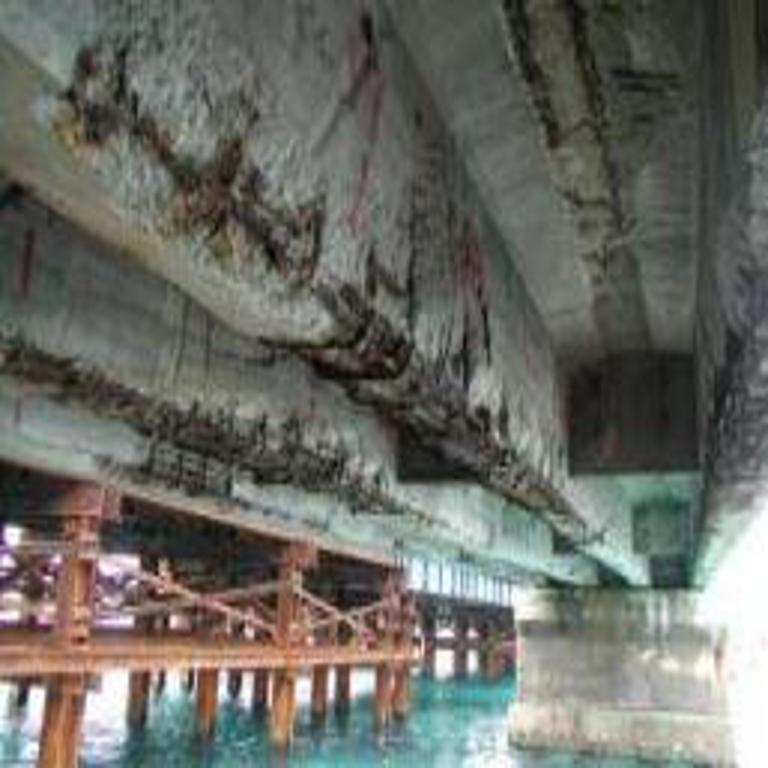crack: (319, 12, 383, 152), (13, 399, 114, 474), (234, 496, 334, 531), (559, 503, 610, 547), (209, 342, 295, 368), (399, 502, 463, 536), (358, 151, 369, 192)
damage: (59, 46, 564, 516), (0, 337, 398, 514), (504, 0, 653, 348), (708, 265, 768, 526)
